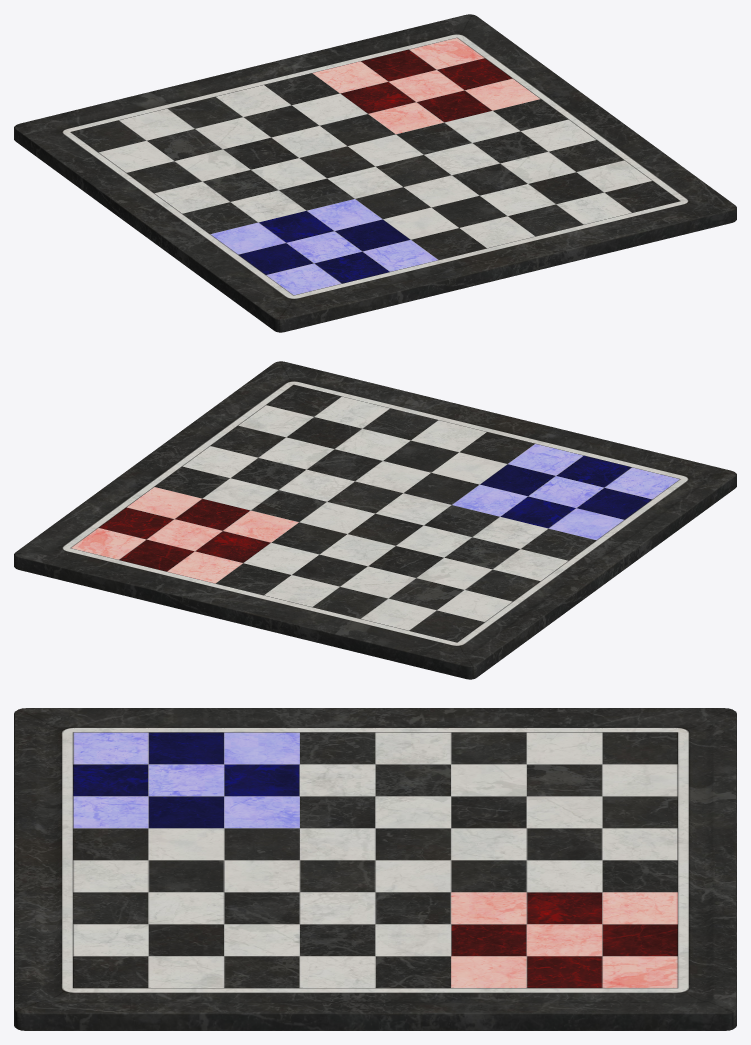
File: board.gltf
The picture shows the model from 3 angles, top to bottom: view 1: azimuth 30°, elevation 25°; view 2: azimuth 150°, elevation 25°; view 3: azimuth 270°, elevation 25°; orthographic projection. The views are drawn at different scales.
Parts seen in each view (by area): view 1: board; view 2: board; view 3: board.
Part boxes in pixels (left/top/right/bottom): board: left=14, top=14, right=736, bottom=332; board: left=14, top=361, right=736, bottom=679; board: left=14, top=708, right=736, bottom=1030.
Size of the model in its own units: 5.53 by 0.1735 by 5.53.
